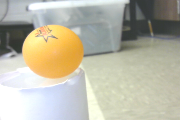PingPongBall: (23, 25, 84, 77)
